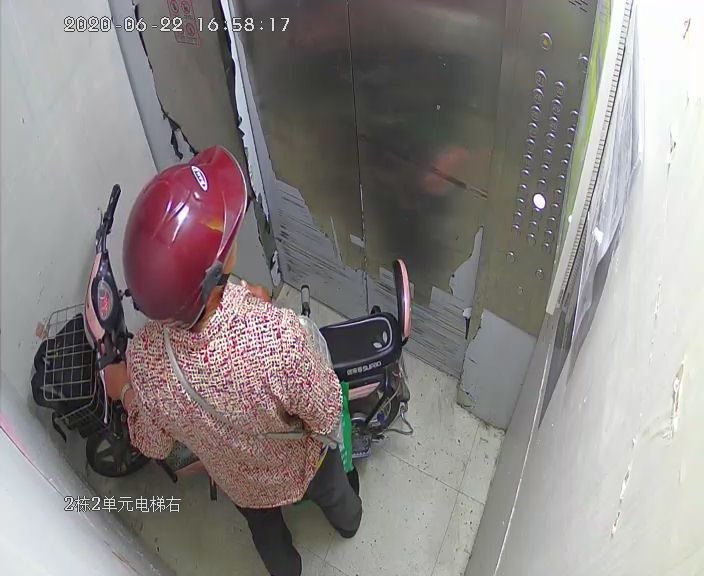Electric-bicycle: (33, 184, 411, 476)
